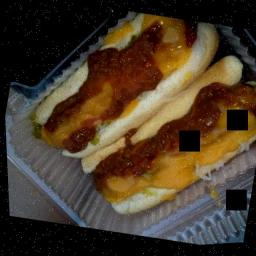hotdog: (216, 76, 256, 120)
